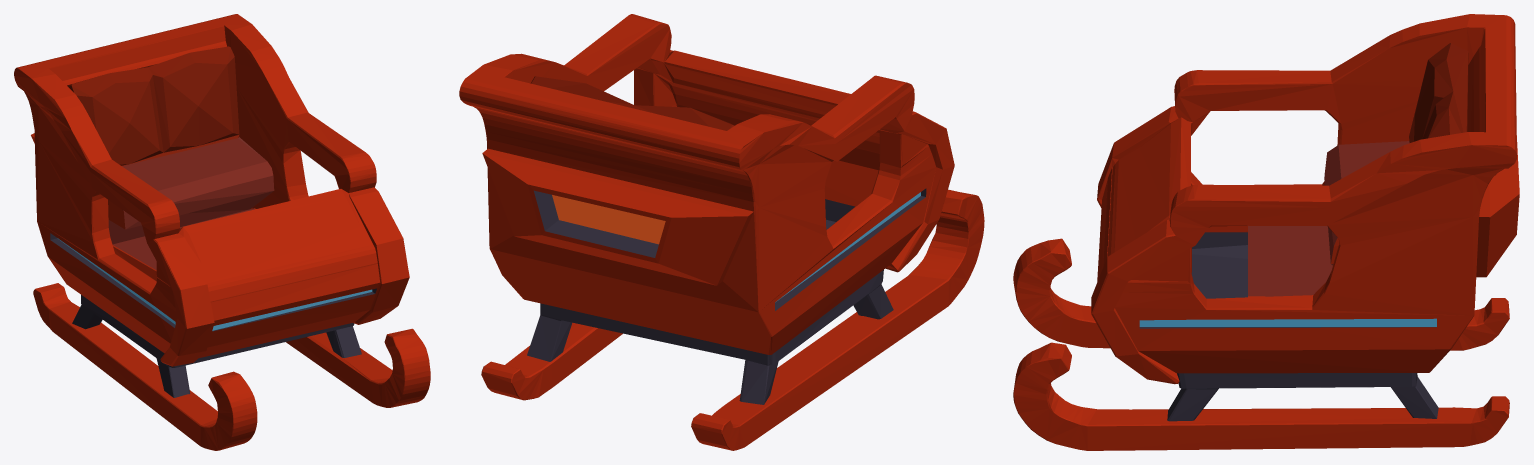
The model's file is Sleigh.fbx.
The picture shows the model from 3 angles, left to right: view 1: azimuth 30°, elevation 25°; view 2: azimuth 150°, elevation 25°; view 3: azimuth 270°, elevation 25°; orthographic projection. The views are drawn at different scales.
Visible parts, largest first — view 1: Sleigh; view 2: Sleigh; view 3: Sleigh.
Boxes of the visible parts, <box> form: Sleigh: <box>14,14,430,450</box>; Sleigh: <box>459,14,984,450</box>; Sleigh: <box>1013,14,1519,450</box>.
Bounding box in the file's own units: 1.11 × 1.22 × 1.8.
1 material, 1 textured.
